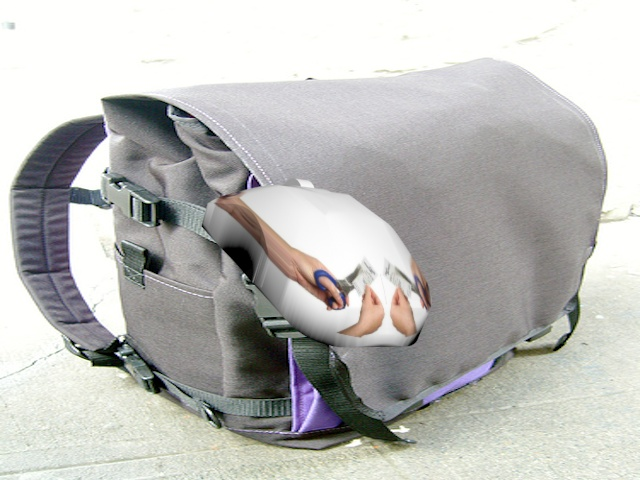mouse: (201, 177, 440, 353)
